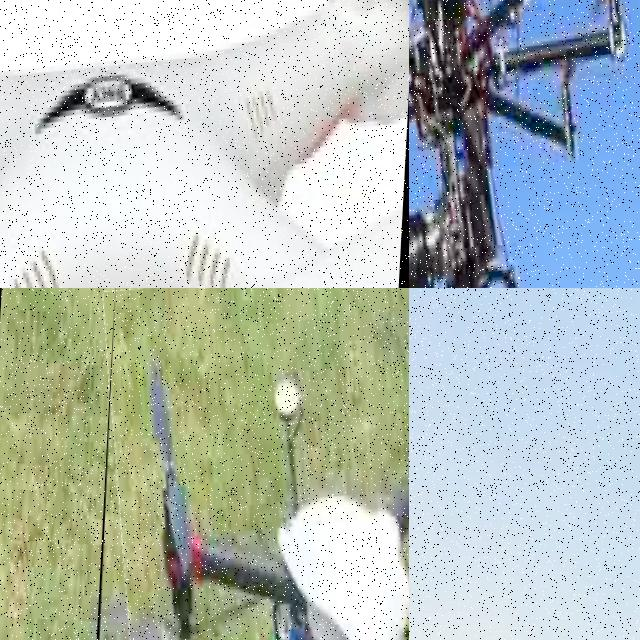0: (92, 288, 409, 640), (409, 0, 640, 288)
drone: (0, 0, 409, 288)
